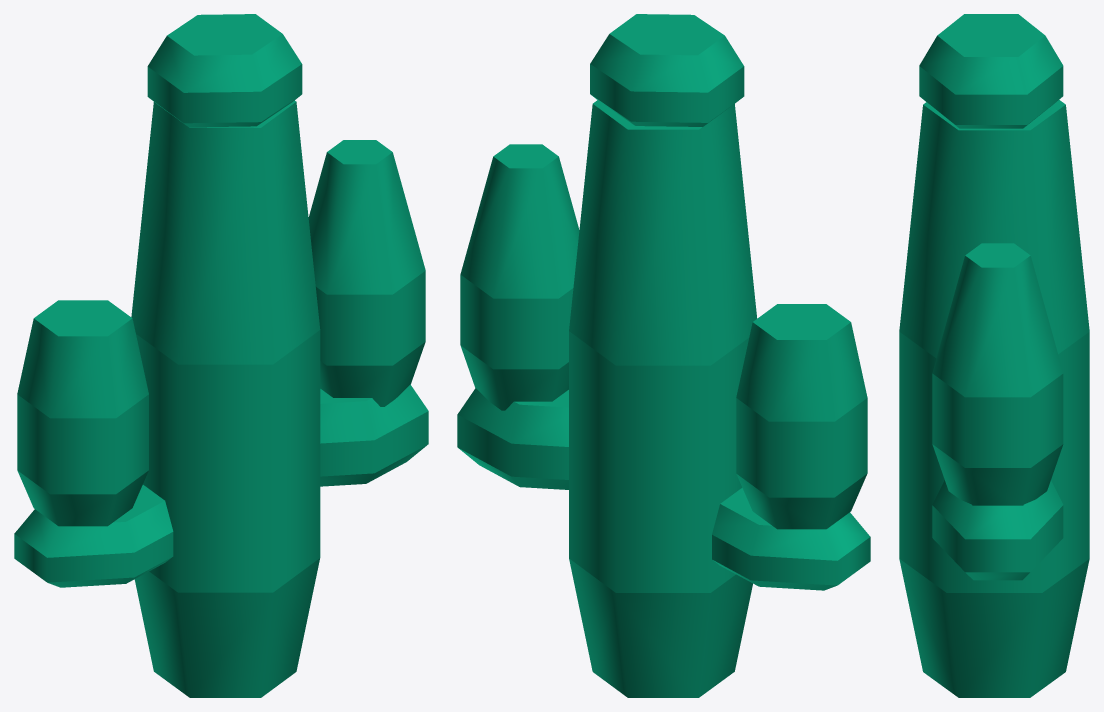
File: Cactus.fbx
The picture shows the model from 3 angles, left to right: view 1: azimuth 30°, elevation 25°; view 2: azimuth 150°, elevation 25°; view 3: azimuth 270°, elevation 25°; orthographic projection.
Visible parts, largest first — view 1: mergedBlocks; view 2: mergedBlocks; view 3: mergedBlocks.
Part boxes in pixels (bbox=[...]): mergedBlocks: bbox=[14, 14, 428, 697]; mergedBlocks: bbox=[457, 14, 870, 697]; mergedBlocks: bbox=[899, 14, 1089, 697].
Size of the model in its own units: 38.6 by 61.74 by 16.77.
